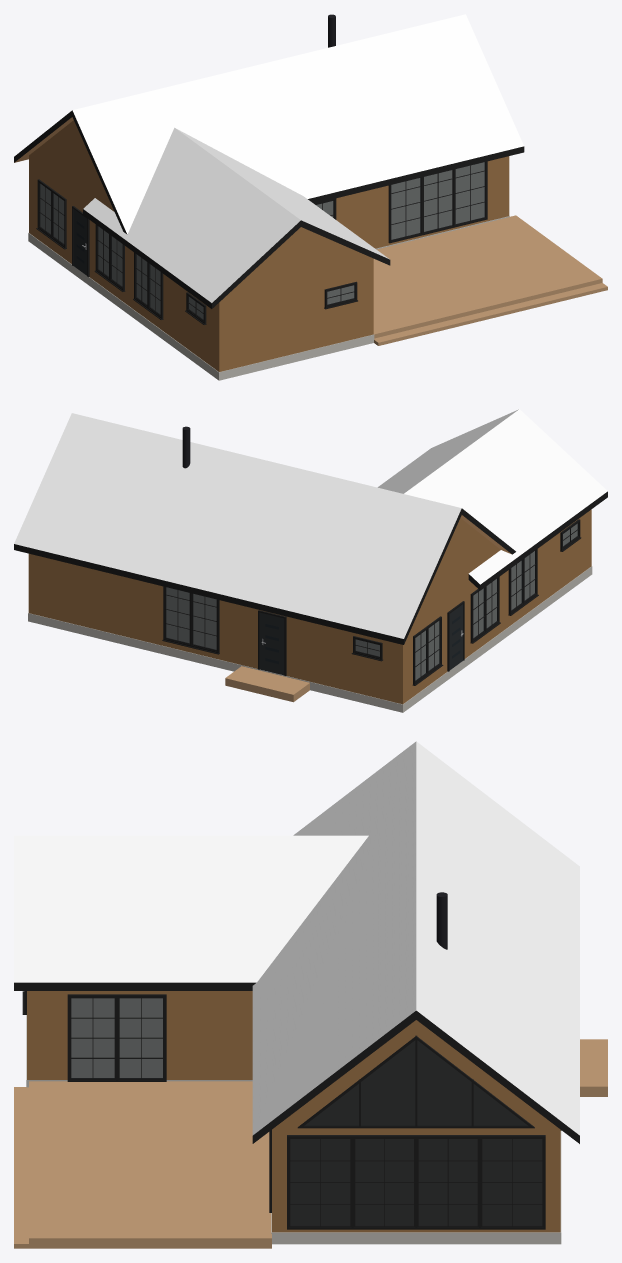
The model's file is oobik129_c0_p0_m1.glb.
3 renders of one model, top to bottom at view 1: azimuth 30°, elevation 25°; view 2: azimuth 150°, elevation 25°; view 3: azimuth 270°, elevation 25°, orthographic. The views are drawn at different scales.
Parts seen in each view (by area): view 1: roof, wall, deck, glass, curtain, frame, fascia, plinth, door; view 2: roof, wall, glass, curtain, frame, plinth, fascia, door, deck; view 3: roof, deck, glass, interior, wall, frame, curtain, fascia, plinth.
Boxes of the visible parts, <box> form: roof: <box>72,14,523,302</box>; wall: <box>29,120,509,371</box>; deck: <box>373,215,607,345</box>; glass: <box>39,162,484,319</box>; curtain: <box>40,162,484,319</box>; frame: <box>36,161,487,324</box>; fascia: <box>14,110,524,308</box>; plinth: <box>28,216,509,380</box>; door: <box>73,209,87,275</box>; roof: <box>14,409,607,638</box>; wall: <box>28,509,591,704</box>; glass: <box>166,523,577,680</box>; curtain: <box>166,524,577,680</box>; frame: <box>162,519,581,685</box>; plinth: <box>28,566,592,712</box>; fascia: <box>14,491,607,644</box>; door: <box>259,604,463,675</box>; deck: <box>225,666,309,702</box>; roof: <box>14,741,579,1135</box>; deck: <box>14,1039,607,1248</box>; glass: <box>71,998,542,1225</box>; interior: <box>290,1040,542,1225</box>; wall: <box>27,991,560,1232</box>; frame: <box>22,991,561,1229</box>; curtain: <box>71,998,162,1077</box>; fascia: <box>14,982,579,1143</box>; plinth: <box>26,1015,561,1244</box>.
Bounding box in the file's own units: 14.97 × 6.92 × 13.82.
13 materials, 5 textured.
